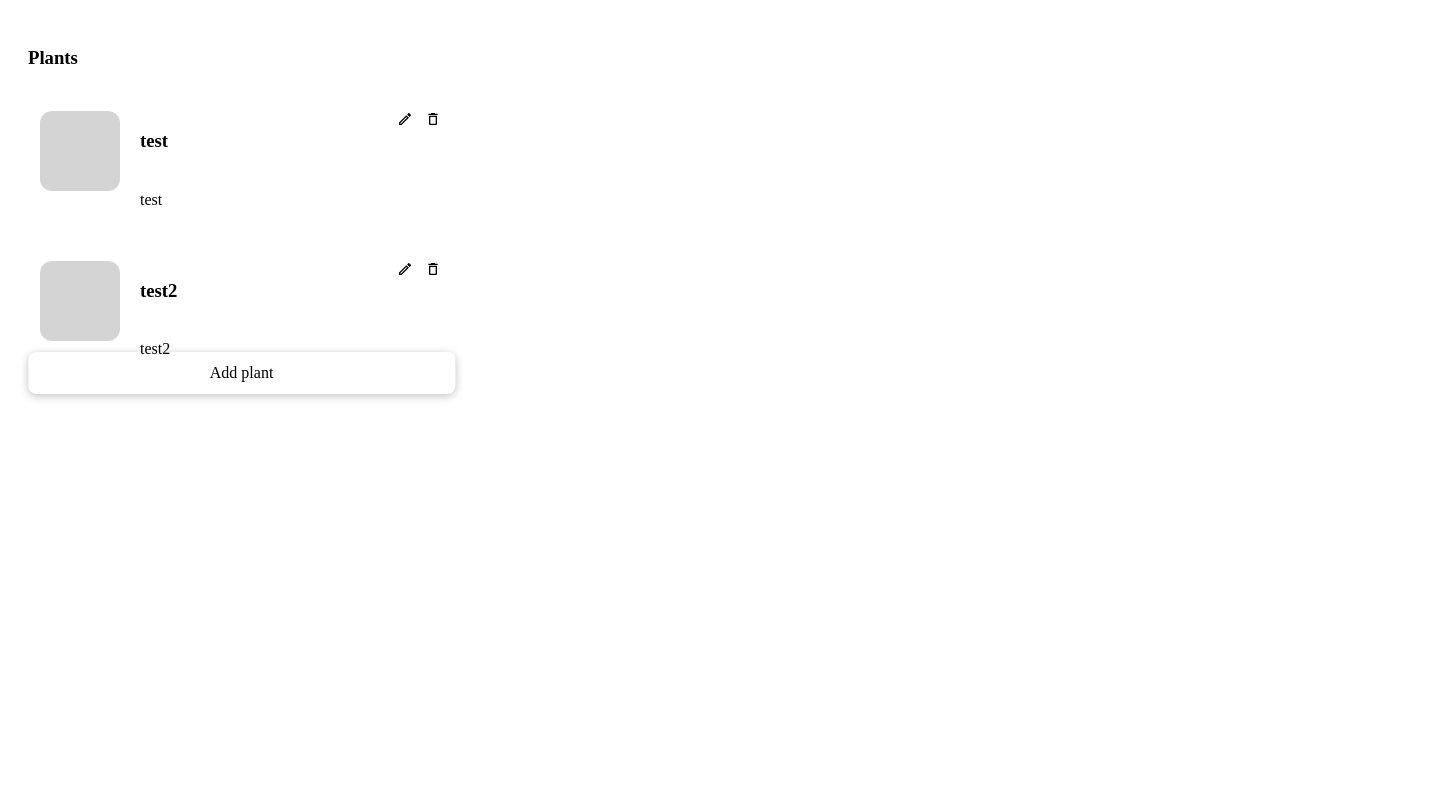
Test: <PlantList /> › Renders add plant modal when add button clicked
This screenshot has width=1440, height=810.
Click the text "Add plant". click: {"x": 242, "y": 373}
box: [28, 352, 455, 394]
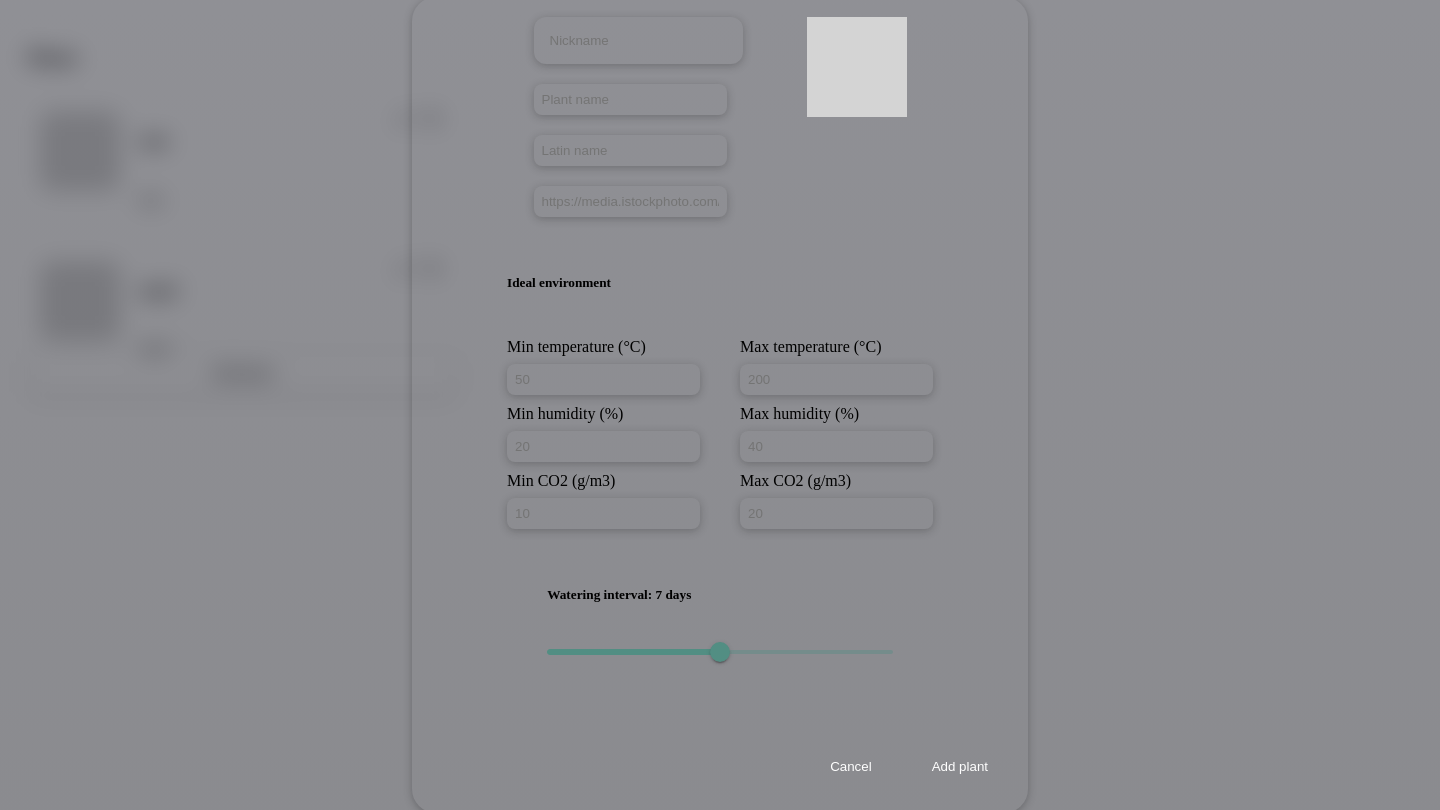
expect the field with placeholder "Plant name" is shown: met, box [534, 84, 726, 115]
